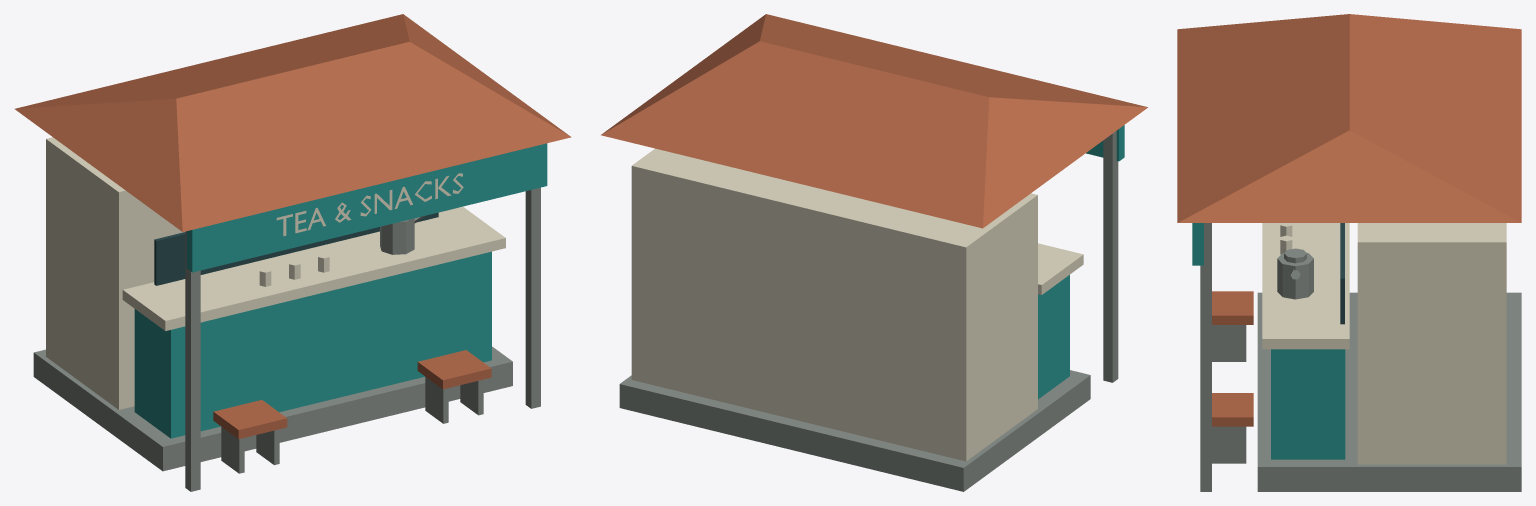
Rendered from KeralaTeaStall.glb.
3 views of the same model, side by side, from view 1: azimuth 30°, elevation 25°; view 2: azimuth 150°, elevation 25°; view 3: azimuth 270°, elevation 25° (orthographic). The views are drawn at different scales.
Visible parts, largest first — view 1: KeralaTeaStall_Terracotta_Roof, KeralaTeaStall_Kerala_Teal_Trim, KeralaTeaStall_Warm_Lime_Plaster, KeralaTeaStall_Stone_And_Metal, KeralaTeaStall_Deep_Window_Glass; view 2: KeralaTeaStall_Warm_Lime_Plaster, KeralaTeaStall_Terracotta_Roof, KeralaTeaStall_Stone_And_Metal, KeralaTeaStall_Kerala_Teal_Trim; view 3: KeralaTeaStall_Terracotta_Roof, KeralaTeaStall_Warm_Lime_Plaster, KeralaTeaStall_Stone_And_Metal, KeralaTeaStall_Kerala_Teal_Trim, KeralaTeaStall_Deep_Window_Glass.
Boxes of the visible parts, x1,y1,x2,y2 form: KeralaTeaStall_Terracotta_Roof: (15, 14, 571, 438); KeralaTeaStall_Kerala_Teal_Trim: (134, 143, 547, 438); KeralaTeaStall_Warm_Lime_Plaster: (46, 137, 505, 409); KeralaTeaStall_Stone_And_Metal: (33, 187, 540, 491); KeralaTeaStall_Deep_Window_Glass: (154, 212, 438, 285); KeralaTeaStall_Warm_Lime_Plaster: (631, 148, 1083, 461); KeralaTeaStall_Terracotta_Roof: (601, 14, 1147, 228); KeralaTeaStall_Stone_And_Metal: (619, 131, 1118, 491); KeralaTeaStall_Kerala_Teal_Trim: (1038, 125, 1124, 399); KeralaTeaStall_Terracotta_Roof: (1177, 14, 1521, 426); KeralaTeaStall_Warm_Lime_Plaster: (1262, 223, 1506, 464); KeralaTeaStall_Stone_And_Metal: (1200, 223, 1521, 491); KeralaTeaStall_Kerala_Teal_Trim: (1192, 223, 1345, 459); KeralaTeaStall_Deep_Window_Glass: (1340, 223, 1344, 324).
Size of the model in its own units: 4 by 3.2 by 3.
